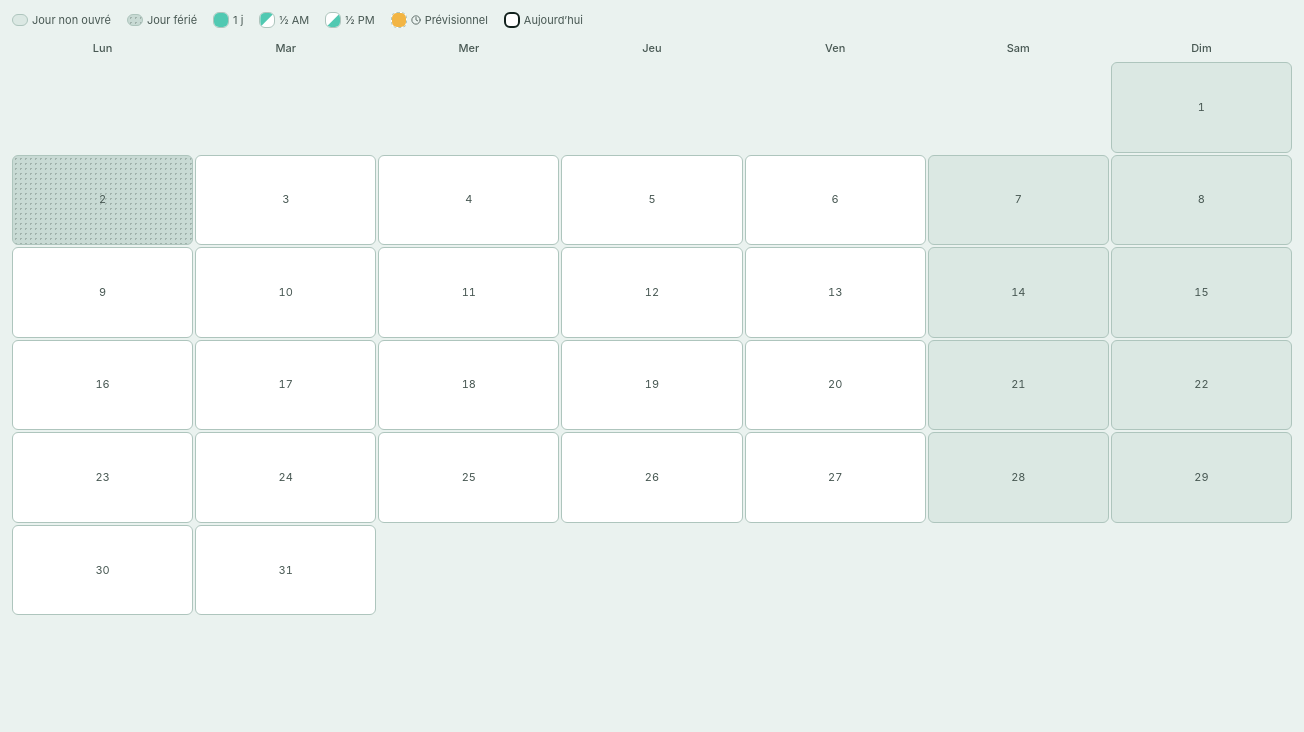
Test: MonthCalendar › sélection par glissement › n offre aucune demi-journée quand la prestation n en propose pas
Press the mouse on the button "9" at (103, 292), box [12,247,193,338]
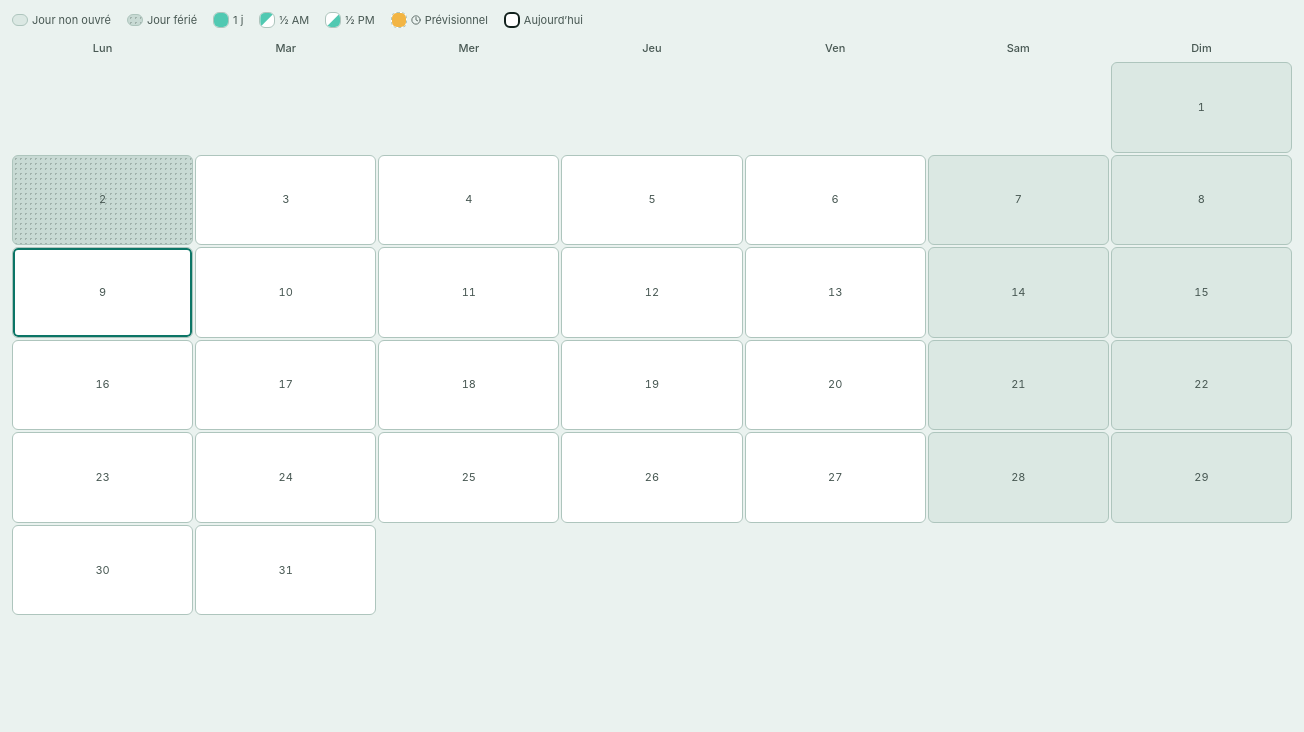
Hover over the button with test id "case-2026-03-10" at (286, 292), box [195,247,376,338]
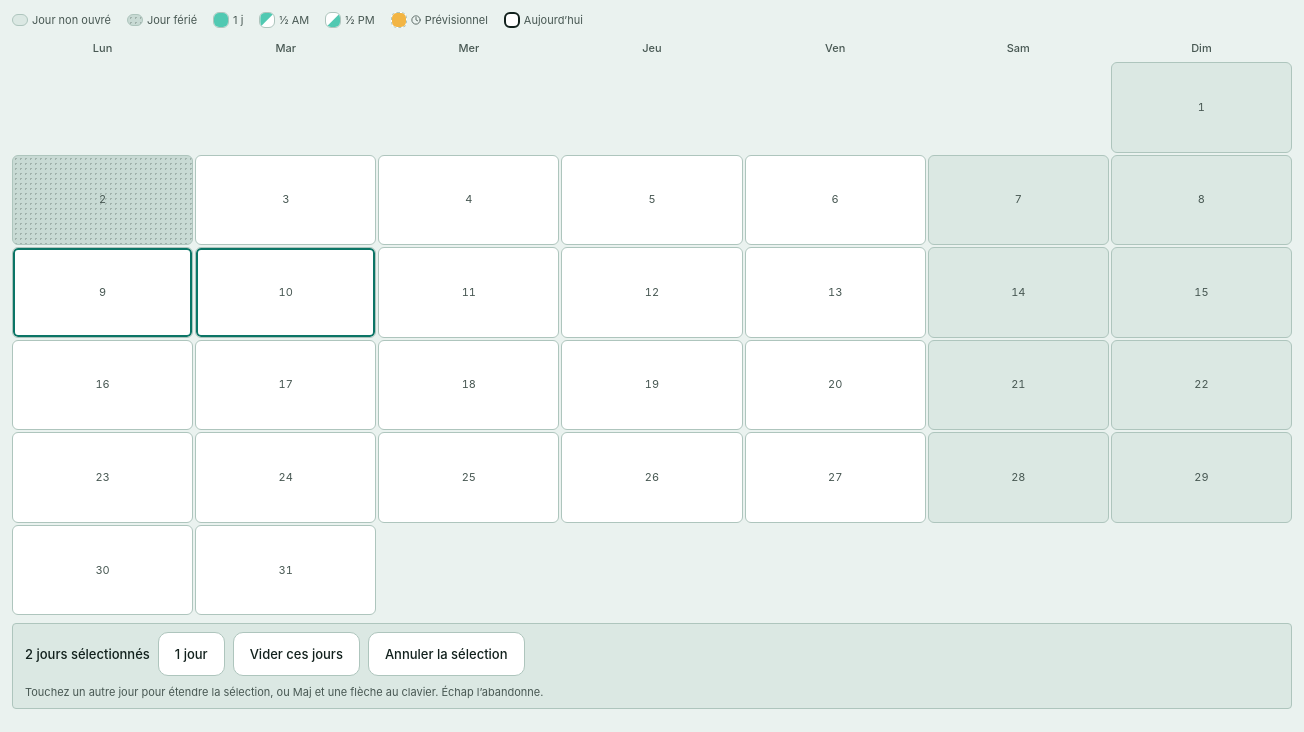
Result: the button "1 jour" is shown at [158,632,225,676]
